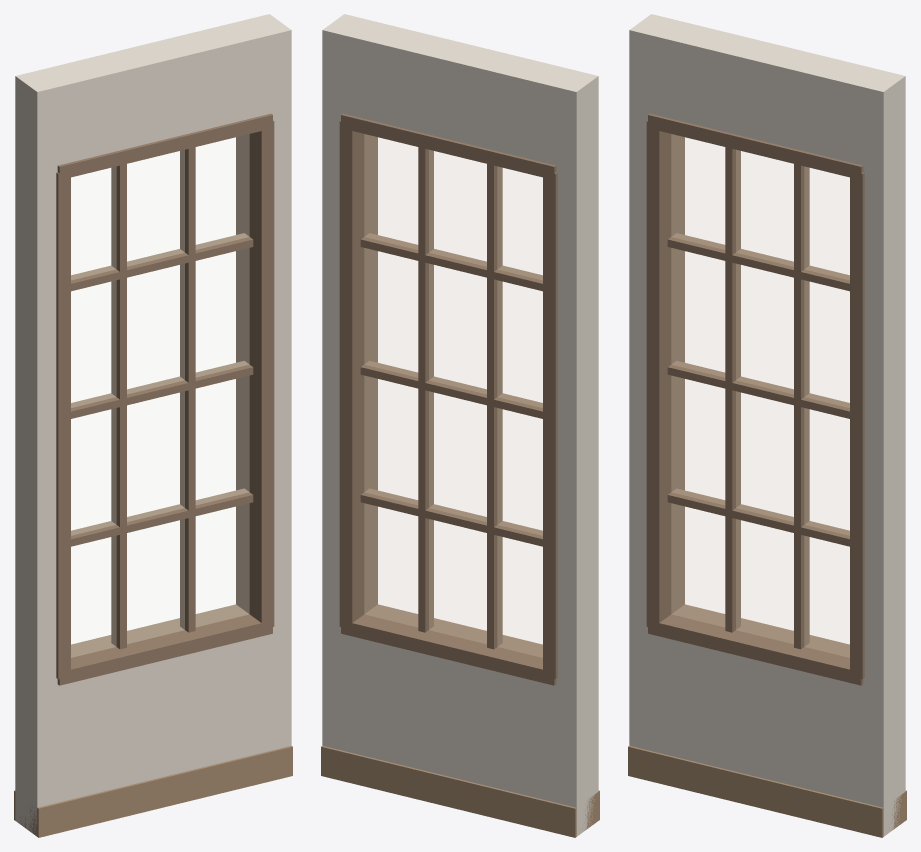
Rendered from environment_wall_window.glb.
3 views of the same model, side by side, from view 1: azimuth 30°, elevation 25°; view 2: azimuth 150°, elevation 25°; view 3: azimuth 330°, elevation 25° (orthographic).
Parts seen in each view (by area): view 1: WallWindow; view 2: WallWindow; view 3: WallWindow.
Boxes of the visible parts, left/top/right/bottom form: WallWindow: left=14, top=14, right=292, bottom=837; WallWindow: left=321, top=14, right=599, bottom=837; WallWindow: left=628, top=14, right=906, bottom=837.
Size of the model in its own units: 1 by 2.8 by 0.175.
